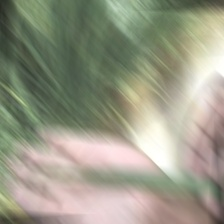Leaf_Blast: (0, 163, 171, 197)
